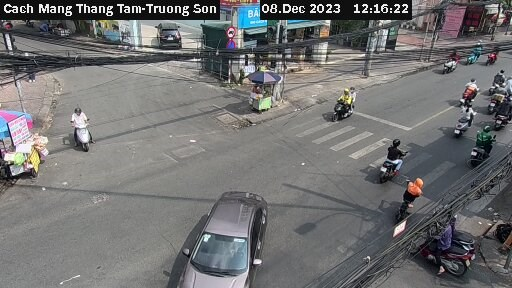car: (181, 187, 279, 287), (153, 22, 188, 49)
motorbike: (328, 89, 367, 131), (67, 109, 103, 150), (468, 129, 501, 172), (369, 144, 410, 178), (456, 75, 482, 105), (446, 106, 471, 135), (438, 52, 462, 79), (491, 101, 512, 131)
